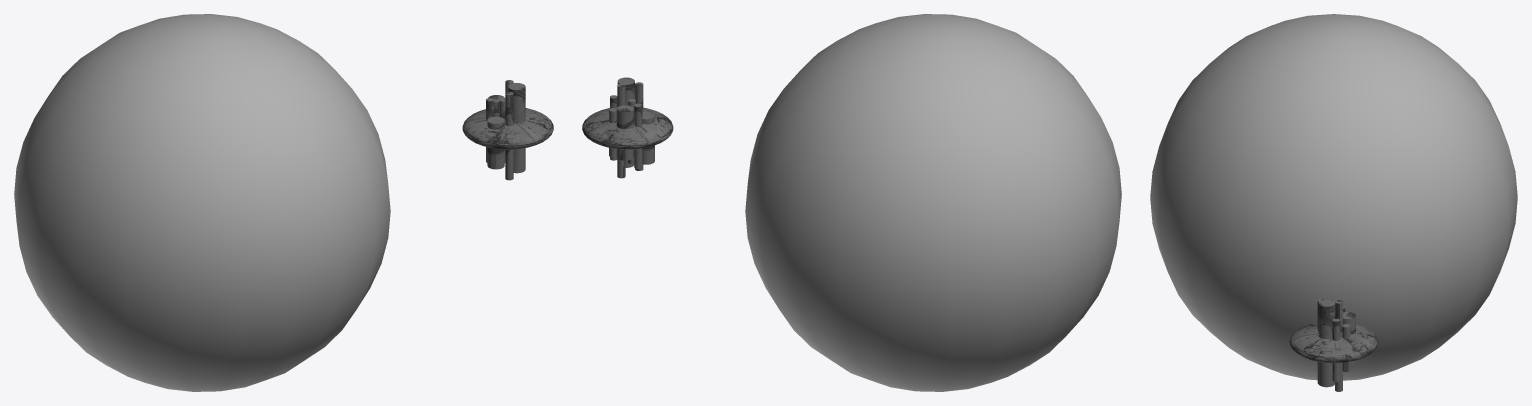
The model's file is SpaceStation.fbx.
3 views of the same model, side by side, from view 1: azimuth 30°, elevation 25°; view 2: azimuth 150°, elevation 25°; view 3: azimuth 270°, elevation 25° (orthographic). The views are drawn at different scales.
Parts seen in each view (by area): view 1: Planet_standin, Spacestation; view 2: Planet_standin, Spacestation; view 3: Planet_standin, Spacestation.
Boxes of the visible parts, x1,y1,x2,y2 form: Planet_standin: (14,14,390,391); Spacestation: (462,80,553,180); Planet_standin: (745,14,1121,391); Spacestation: (582,77,673,178); Planet_standin: (1150,14,1517,380); Spacestation: (1289,298,1378,391).
Bounding box in the file's own units: 26.76 × 17.22 × 17.22.
